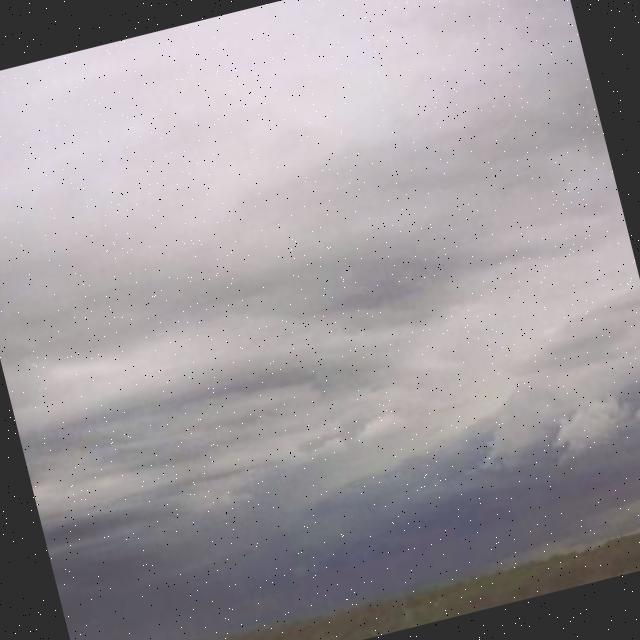Sc: (1, 1, 640, 640)
